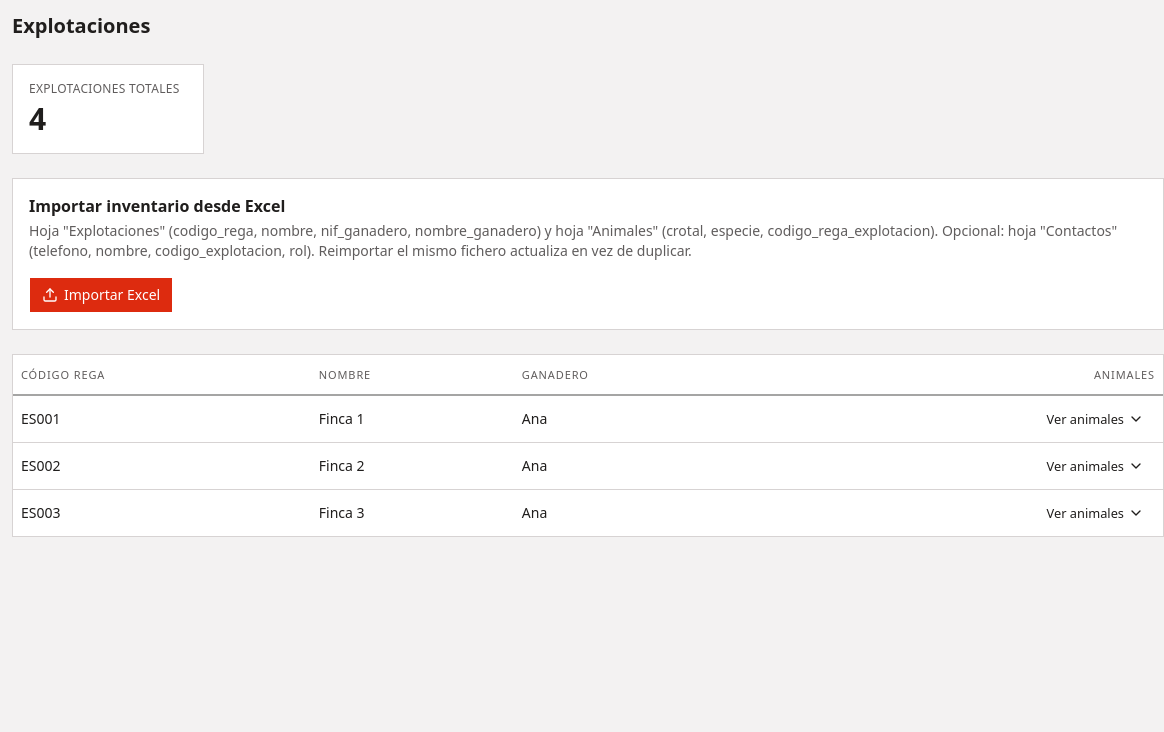
Test: ExplotacionesPage: 'Ver animales' por fila (H1-A) › se pueden tener varias abiertas a la vez, cada una con lo suyo
The image size is (1164, 732).
Expected: the text "ES001" is shown, [13,395,311,442]
Click the button with aria-label "Ver animales de ES001". click: (1095, 419)
box: [1036,404,1155,434]
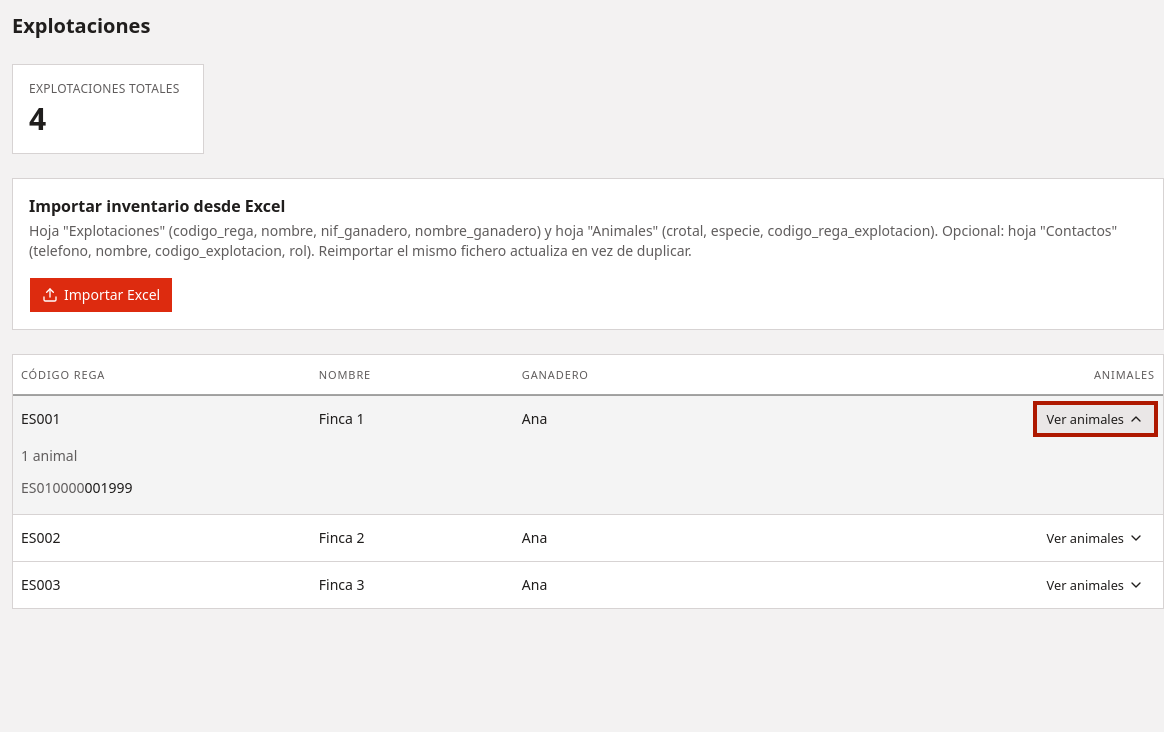
Click the button with aria-label "Ver animales de ES003". click: (1095, 585)
box: [1036,570,1155,600]
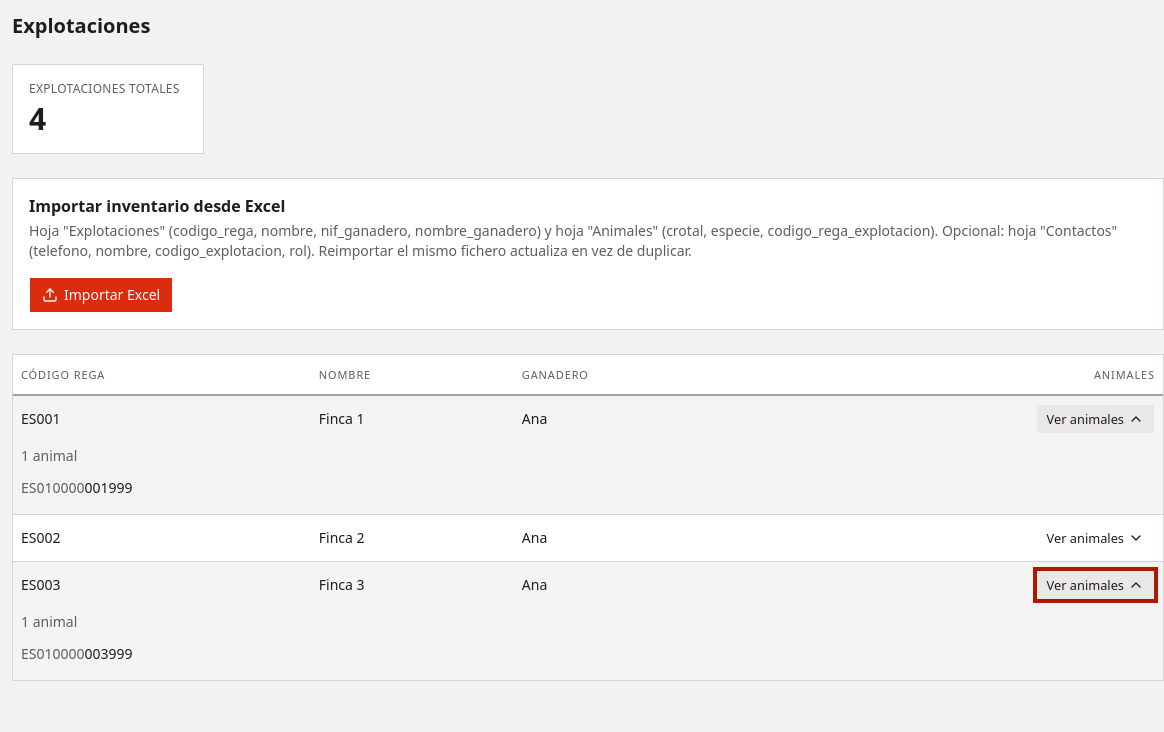
Now the number of lists named "Crotales" is 2, box [21,478,133,497]; [21,644,133,663]
